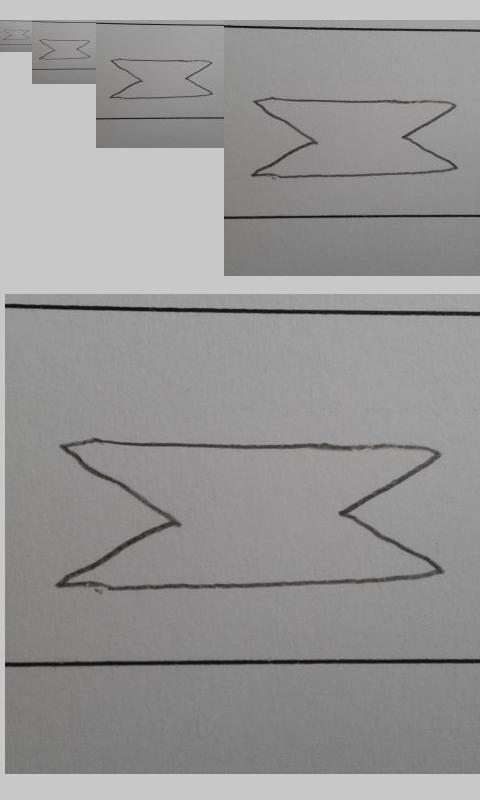edit_text: (51, 433, 447, 595), (250, 96, 459, 180), (109, 58, 213, 99), (38, 39, 91, 60), (3, 29, 30, 41)
